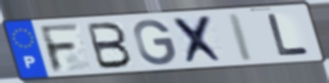B: (85, 21, 135, 71)
F: (37, 22, 83, 75)
G: (131, 18, 178, 67)
I: (226, 12, 256, 63)
L: (264, 12, 312, 58)
X: (170, 14, 228, 66)
